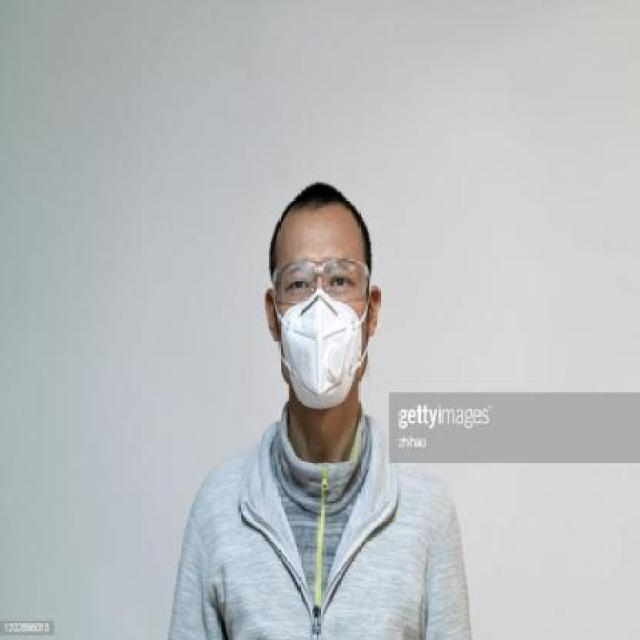face_mask: (273, 255, 369, 414)
glasses: (271, 253, 369, 329)
head_nohelmet: (266, 176, 371, 241)
person: (184, 175, 481, 640)
